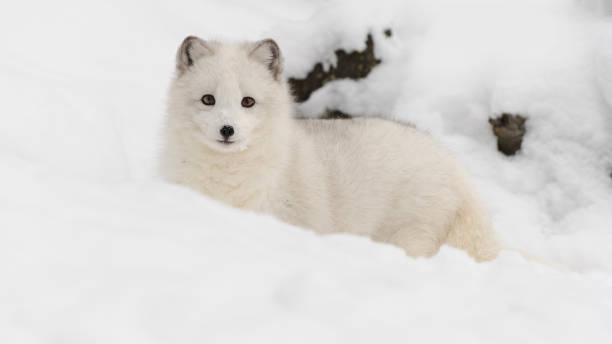arcticfox: (184, 67, 285, 163)
